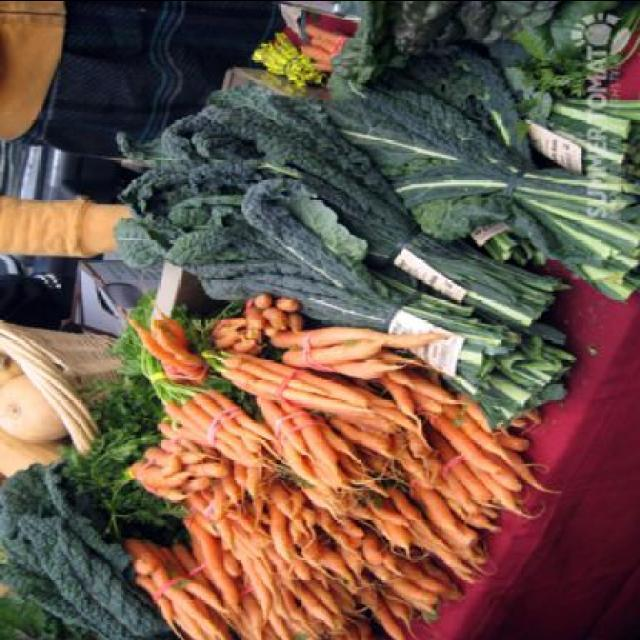Carrot: (116, 291, 564, 640), (267, 325, 456, 349)
